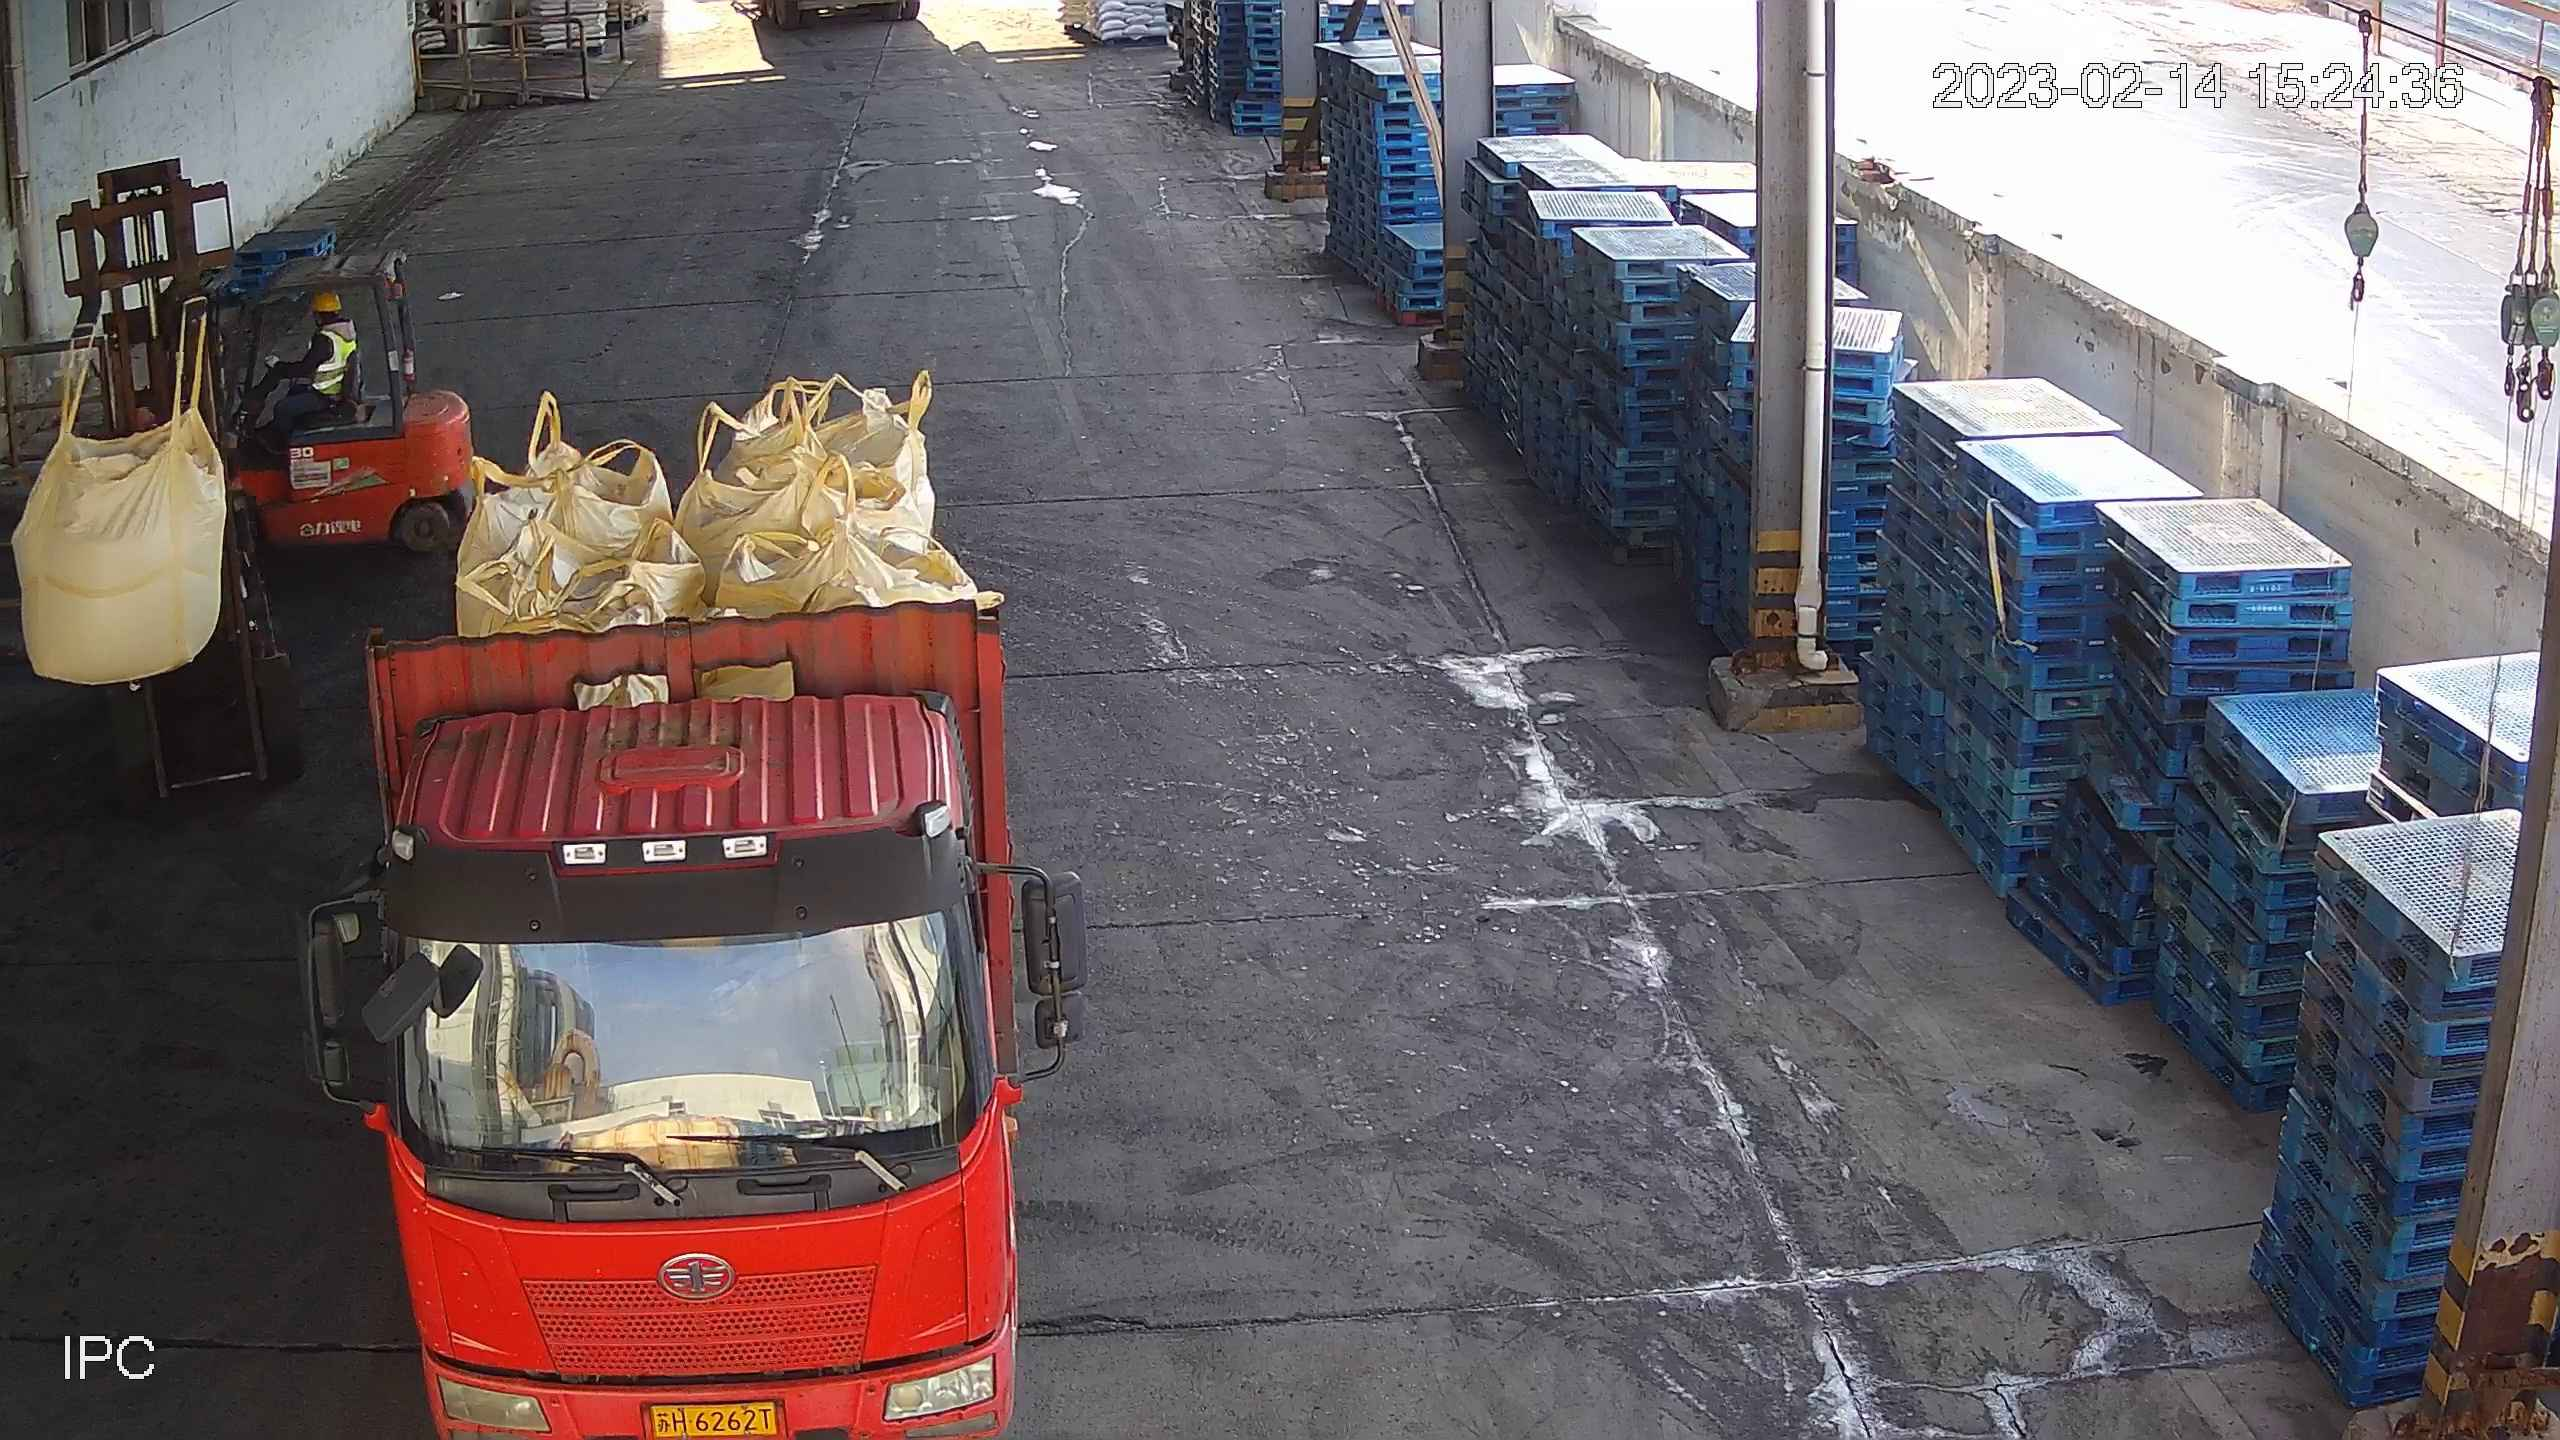head: (310, 291, 357, 356)
helmet: (310, 288, 341, 312)
people: (252, 290, 357, 446)
truck: (303, 587, 1089, 1435)
